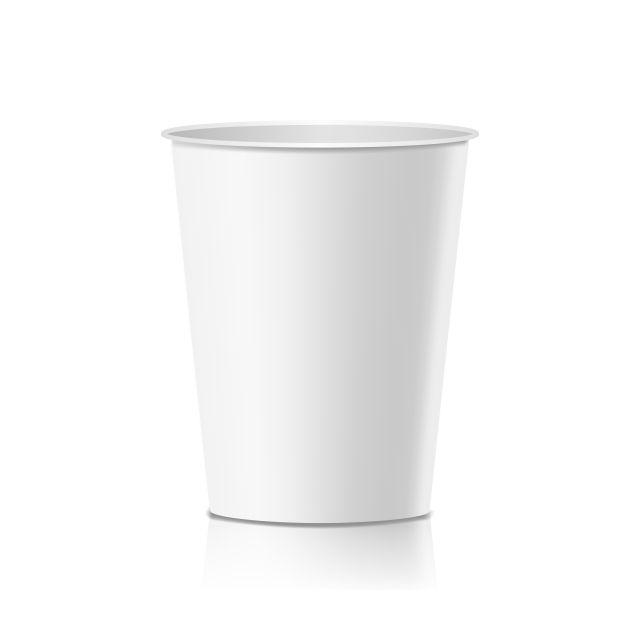paper cup: (160, 121, 480, 524)
